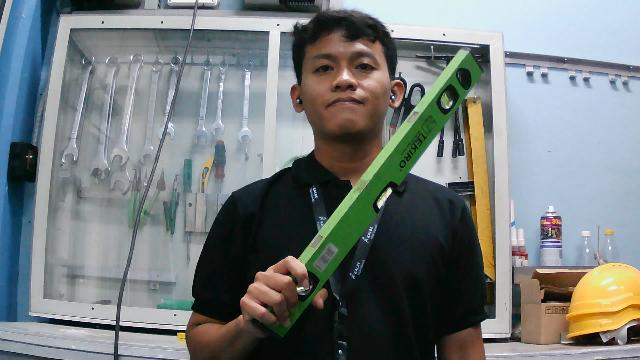water_pass: (235, 44, 485, 342)
